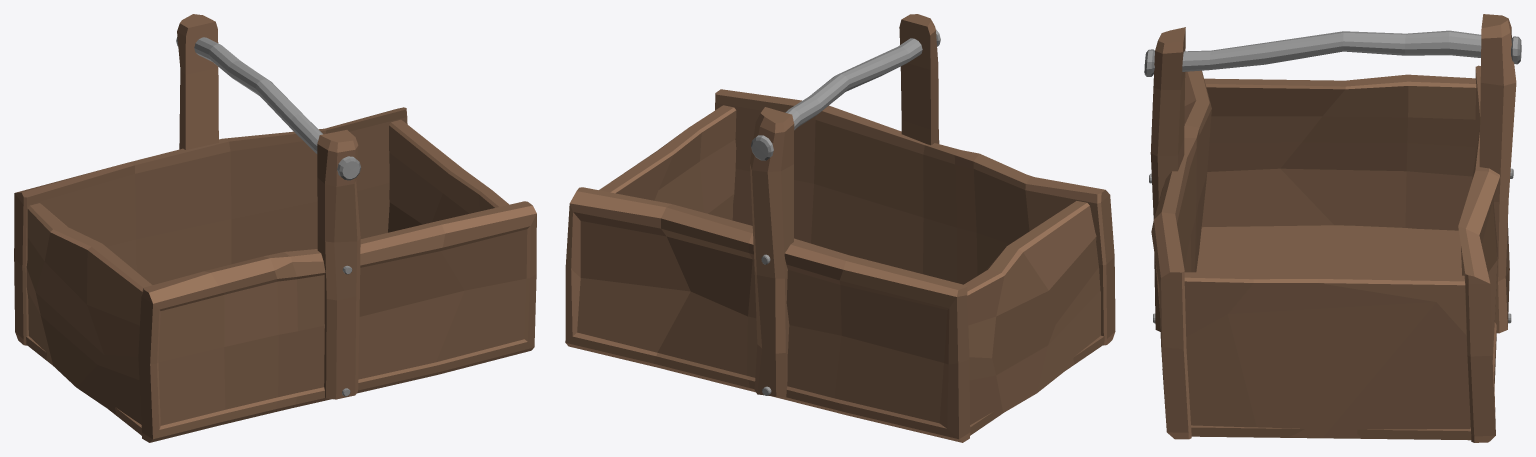
Rendered from Toolbox.fbx.
The picture shows the model from 3 angles, left to right: view 1: azimuth 30°, elevation 25°; view 2: azimuth 150°, elevation 25°; view 3: azimuth 270°, elevation 25°; orthographic projection. The views are drawn at different scales.
Parts seen in each view (by area): view 1: Toolbox; view 2: Toolbox; view 3: Toolbox.
Part boxes in pixels (x1,y1,x2,y2): Toolbox: (14,14,536,442); Toolbox: (565,14,1115,442); Toolbox: (1144,14,1521,442).
Bounding box in the file's own units: 98.38 × 66.11 × 72.17.
